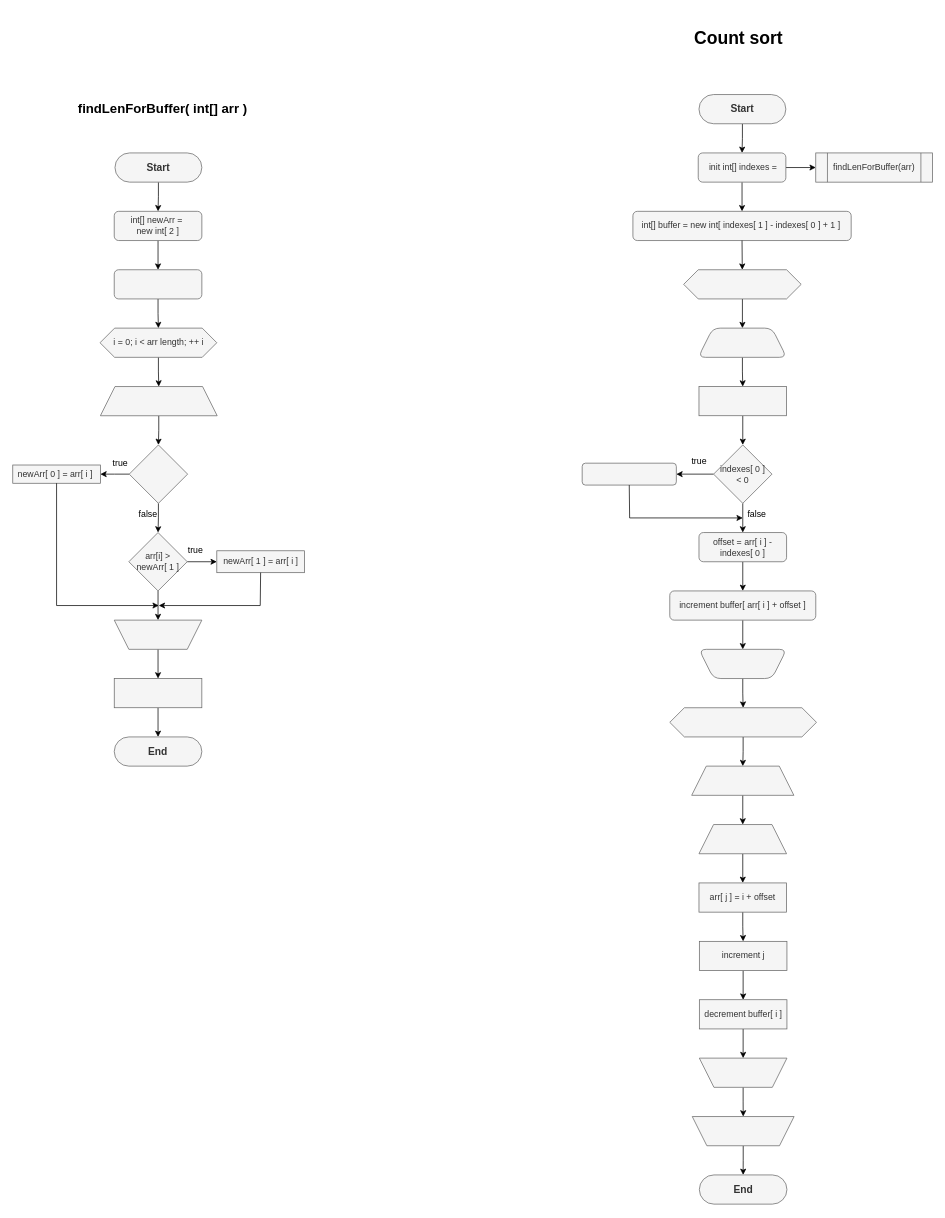
Some shapes in this 945 by 1218 pixel diagram are drawn without their labels. The centre of each missing label's shape, as x and y in pixels:
arr[i] < newArr[ 0 ]: point (158, 473)
buffer[ i ] = 0: point (743, 1072)
buffer[ i ] > 0: point (742, 839)
i = 0, j = 0; i < buffer.length; ++i: point (743, 722)
i = 0; i < arr.length; ++i: point (742, 284)
init elements of newArr equal arr[ 0 ]: point (158, 284)
init offset: point (742, 401)
offset = - indexes[ 0 ]: point (628, 473)
return newArr: point (158, 693)
